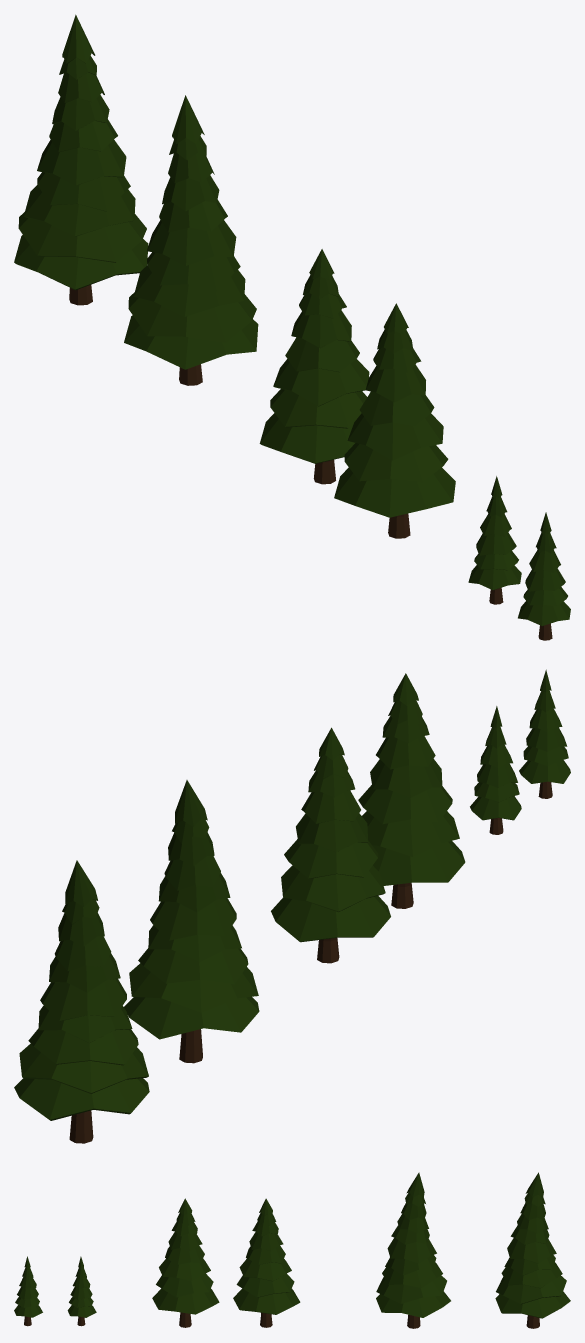
The model's file is LP P Trees ST1.fbx.
3 renders of one model, top to bottom at view 1: azimuth 30°, elevation 25°; view 2: azimuth 150°, elevation 25°; view 3: azimuth 270°, elevation 25°, orthographic. The views are drawn at different scales.
Parts seen in each view (by area): view 1: P T L trunk, P L trunk, P M trunk, P T M trunk, P T S trunk, P S trunk; view 2: P T L trunk, P L trunk, P T M trunk, P M trunk, P T S trunk, P S trunk; view 3: P T L trunk, P L trunk, P T M trunk, P M trunk, P T S trunk, P S trunk.
Part boxes in pixels (left/top/right/bottom): P T L trunk: left=14, top=14, right=148, bottom=305; P L trunk: left=124, top=95, right=258, bottom=385; P M trunk: left=334, top=303, right=455, bottom=538; P T M trunk: left=259, top=249, right=369, bottom=484; P T S trunk: left=468, top=476, right=521, bottom=604; P S trunk: left=518, top=512, right=570, bottom=640; P T L trunk: left=14, top=860, right=149, bottom=1143; P L trunk: left=124, top=780, right=259, bottom=1063; P T M trunk: left=271, top=727, right=390, bottom=963; P M trunk: left=358, top=673, right=465, bottom=908; P T S trunk: left=470, top=706, right=521, bottom=834; P S trunk: left=519, top=669, right=570, bottom=798; P T L trunk: left=495, top=1172, right=570, bottom=1328; P L trunk: left=376, top=1172, right=450, bottom=1328; P T M trunk: left=233, top=1198, right=300, bottom=1327; P M trunk: left=152, top=1198, right=219, bottom=1327; P T S trunk: left=67, top=1256, right=96, bottom=1326; P S trunk: left=14, top=1256, right=42, bottom=1326.
Size of the model in its own units: 592 by 1361 by 4467.
